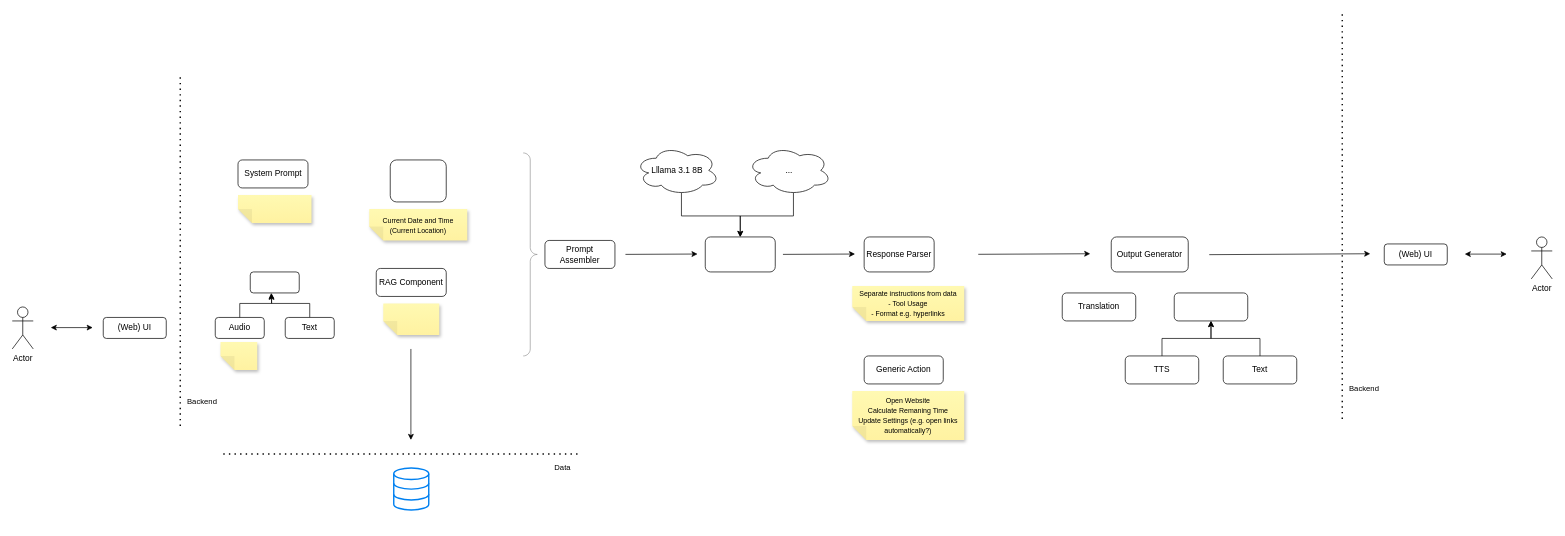
The diagram is 1565 pixels wide and 536 high, and some of its shapes have lost their labels. Here are the shapes that lost their labels. From the top down, the centre of each, then its label:
point 418,180: Contextual Information Provider
point 275,209: Adapt continuosly?
point 740,254: LLM Client
point 274,282: Input
point 411,320: Embedding Similiarity
point 1211,306: Output Modality
point 239,356: ASR
point 411,488: Database
